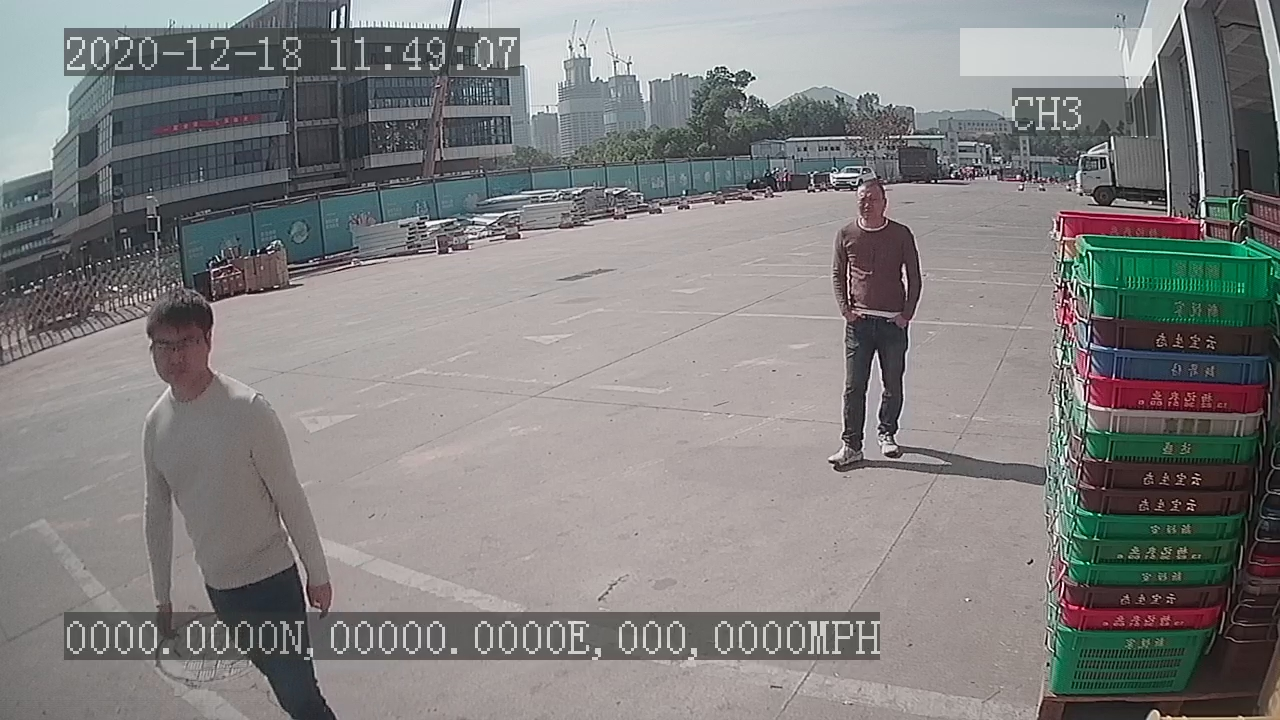person: (822, 177, 929, 474)
